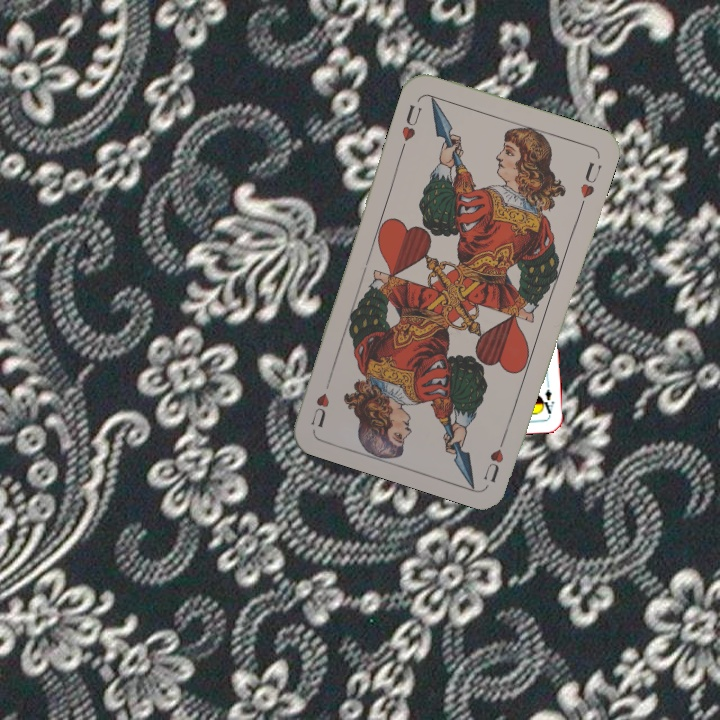EA: (537, 376, 556, 416)
HU: (479, 428, 510, 485), (397, 100, 425, 153)
